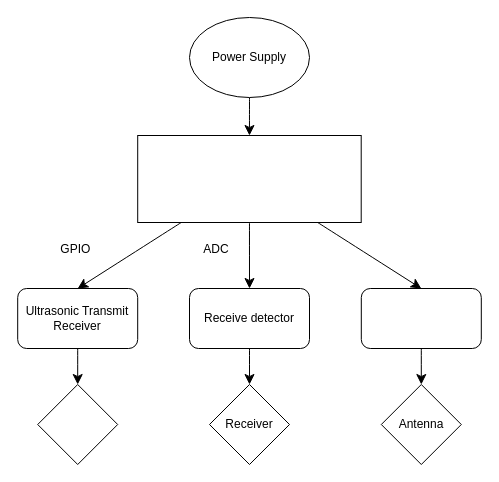
This 499x482 diagram has some shape labels left out. The centre of each missing label's shape, as x and y in pixels:
QPG6200L: the point at 249,178
Radio: the point at 420,318
Transmitter: the point at 77,424
